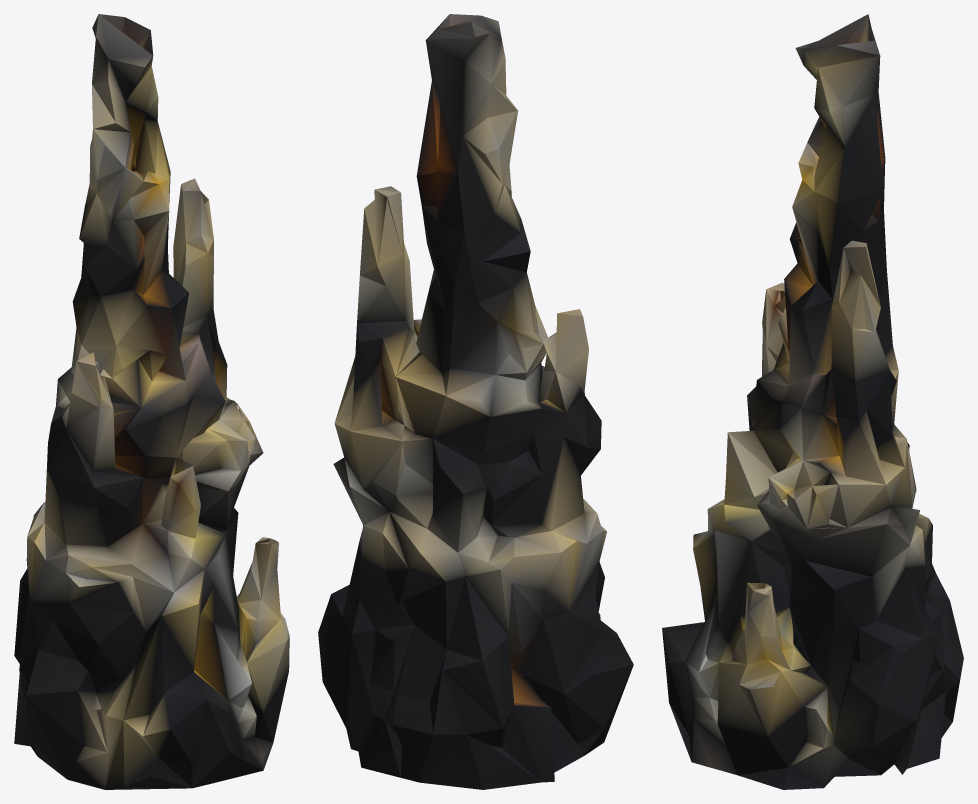
Rendered from deep_smoker.glb.
3 views of the same model, side by side, from view 1: azimuth 30°, elevation 25°; view 2: azimuth 150°, elevation 25°; view 3: azimuth 270°, elevation 25° (orthographic). The views are drawn at different scales.
Size of the model in its own units: 0.7258 by 1.92 by 0.7377.
